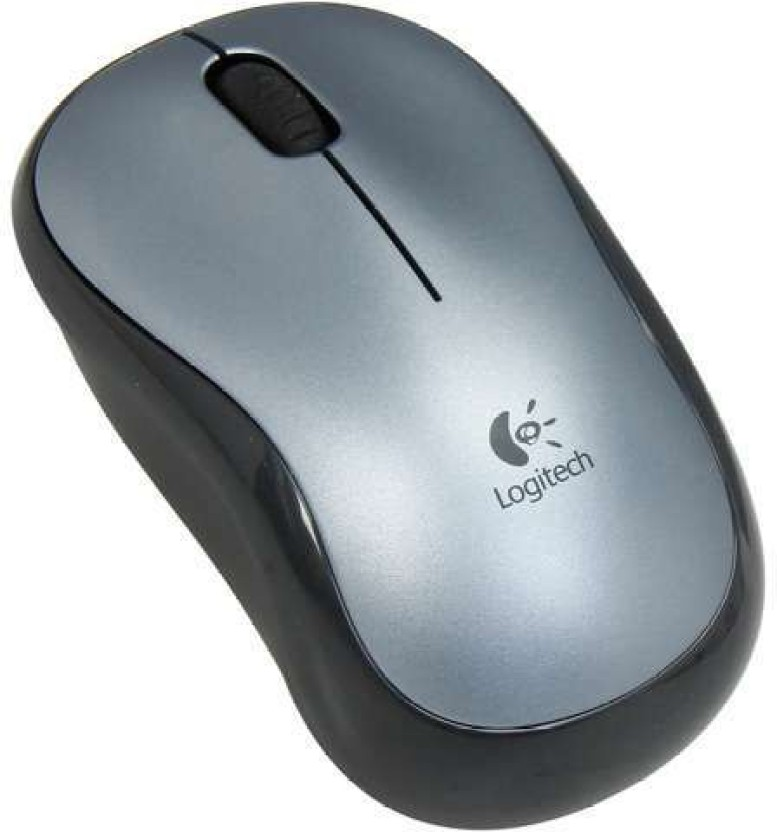logitech-mouse-m185: (1, 3, 769, 820)
